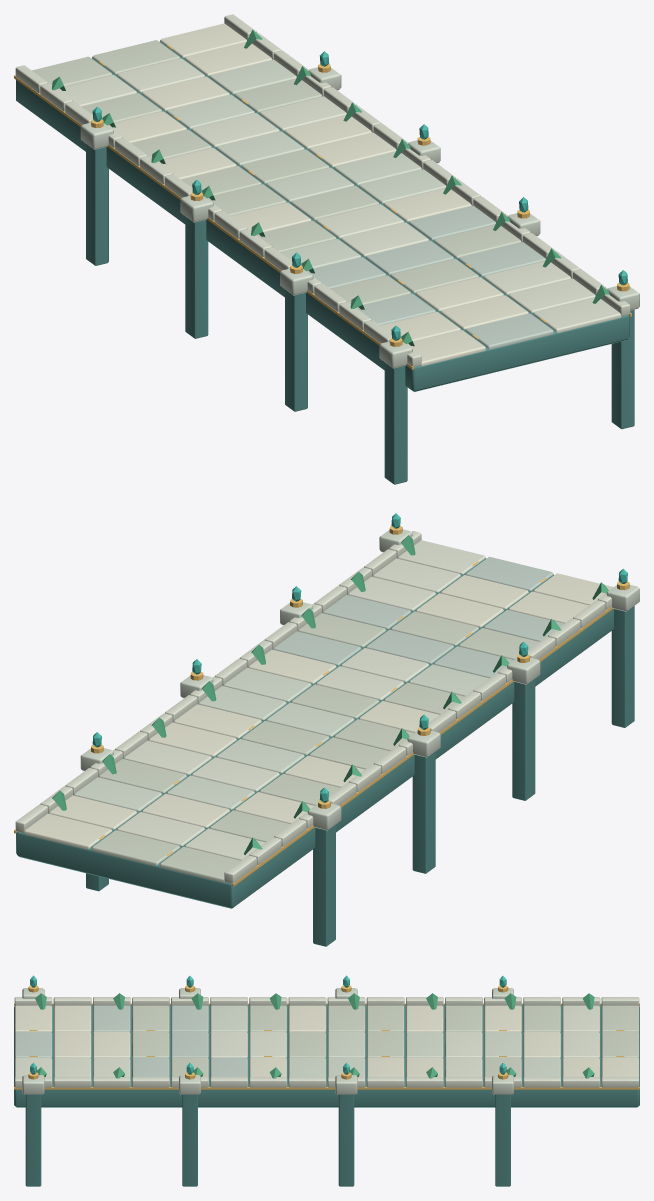
File: causeway.glb
3 renders of one model, top to bottom at view 1: azimuth 30°, elevation 25°; view 2: azimuth 150°, elevation 25°; view 3: azimuth 270°, elevation 25°, orthographic. The views are drawn at different scales.
Visible parts, largest first — view 1: Foundation, Paving.002, Paving, Paving.009, Pier_cap, Paving.001, Palm_frond, Lane_inlay, Jade_lantern; view 2: Paving.002, Foundation, Paving, Paving.009, Pier_cap, Paving.001, Palm_frond, Lane_inlay, Jade_lantern; view 3: Foundation, Paving.002, Paving.009, Paving, Pier_cap, Paving.001, Lane_inlay, Palm_frond, Jade_lantern.
Boxes of the visible parts, <box> form: Foundation: <box>16,41,634,484</box>; Paving.002: <box>15,14,630,366</box>; Paving: <box>107,23,528,366</box>; Paving.009: <box>32,40,521,305</box>; Pier_cap: <box>80,60,639,368</box>; Paving.001: <box>307,205,553,349</box>; Palm_frond: <box>52,29,609,346</box>; Lane_inlay: <box>14,44,631,369</box>; Jade_lantern: <box>92,51,627,340</box>; Paving.002: <box>15,531,611,883</box>; Foundation: <box>16,558,634,946</box>; Paving: <box>24,573,613,849</box>; Paving.009: <box>92,611,539,882</box>; Pier_cap: <box>74,529,639,830</box>; Paving.001: <box>273,556,563,678</box>; Palm_frond: <box>52,535,608,854</box>; Lane_inlay: <box>14,526,629,886</box>; Jade_lantern: <box>92,513,627,802</box>; Foundation: <box>14,1004,639,1186</box>; Paving.002: <box>14,997,639,1087</box>; Paving.009: <box>132,1005,639,1077</box>; Paving: <box>14,1005,639,1077</box>; Pier_cap: <box>22,988,560,1094</box>; Paving.001: <box>14,1005,247,1077</box>; Lane_inlay: <box>14,985,639,1089</box>; Palm_frond: <box>35,993,594,1078</box>; Jade_lantern: <box>30,975,506,1074</box>.
Bounding box in the file's own units: 8.65 × 5.15 × 24.
